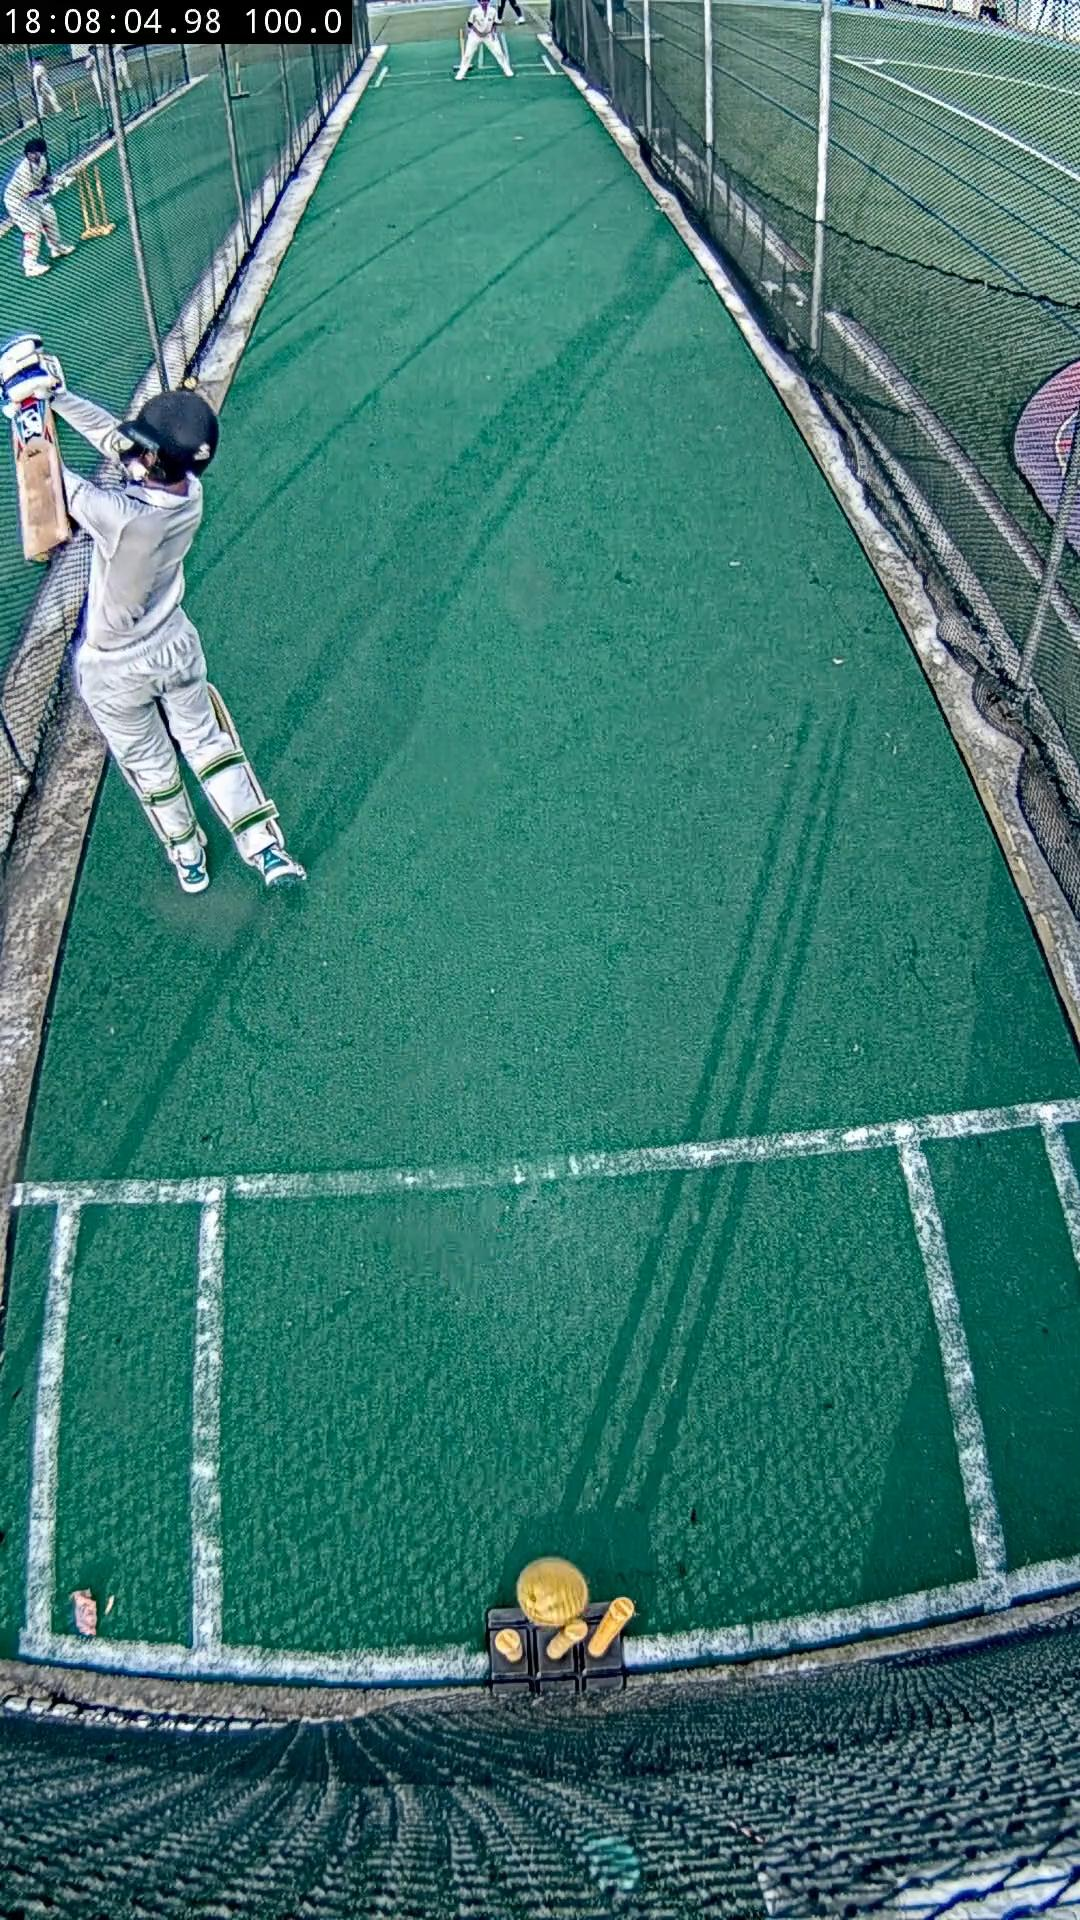ball: (517, 1556, 588, 1626)
bat: (4, 401, 71, 563)
gloves: (0, 334, 63, 405)
helmet: (120, 390, 218, 484)
pads: (206, 683, 240, 746)
stumps: (488, 1601, 626, 1692)
